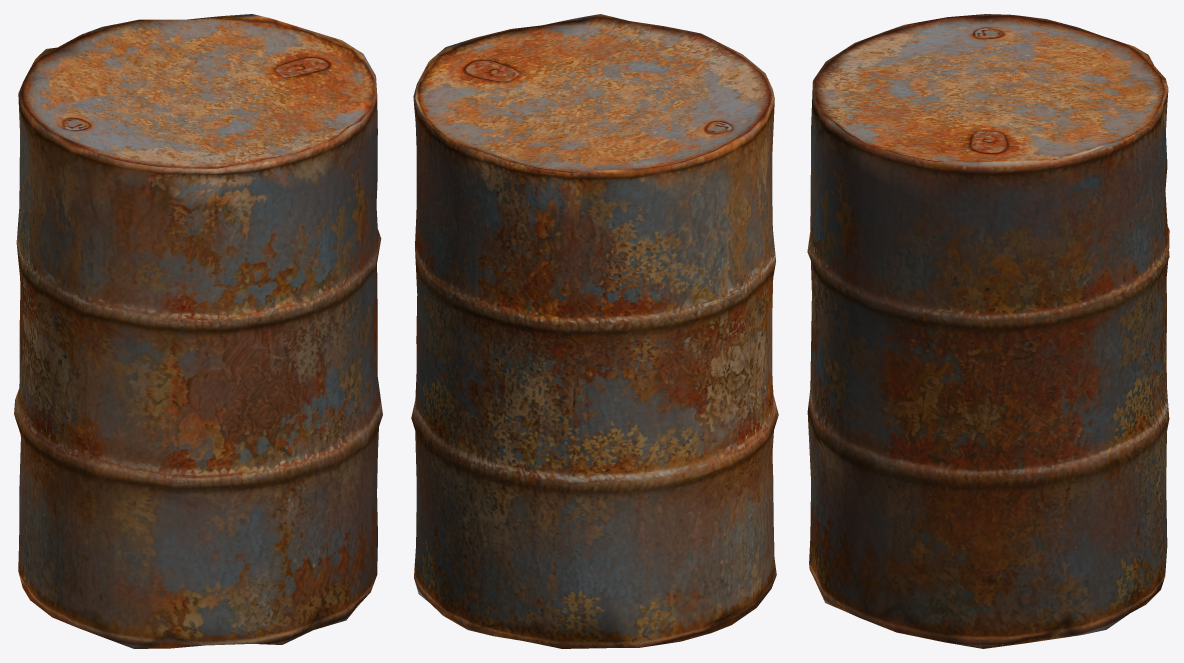
The model's file is Rusty Metal Barrel.fbx.
3 views of the same model, side by side, from view 1: azimuth 30°, elevation 25°; view 2: azimuth 150°, elevation 25°; view 3: azimuth 270°, elevation 25° (orthographic).
Parts seen in each view (by area): view 1: texture_mapping; view 2: texture_mapping; view 3: texture_mapping.
Boxes of the visible parts, x1,y1,x2,y2 form: texture_mapping: [14, 14, 382, 648]; texture_mapping: [411, 14, 778, 648]; texture_mapping: [807, 14, 1169, 648].
Size of the model in its own units: 0.6895 by 0.6844 by 1.02.
1 material, 1 textured.
